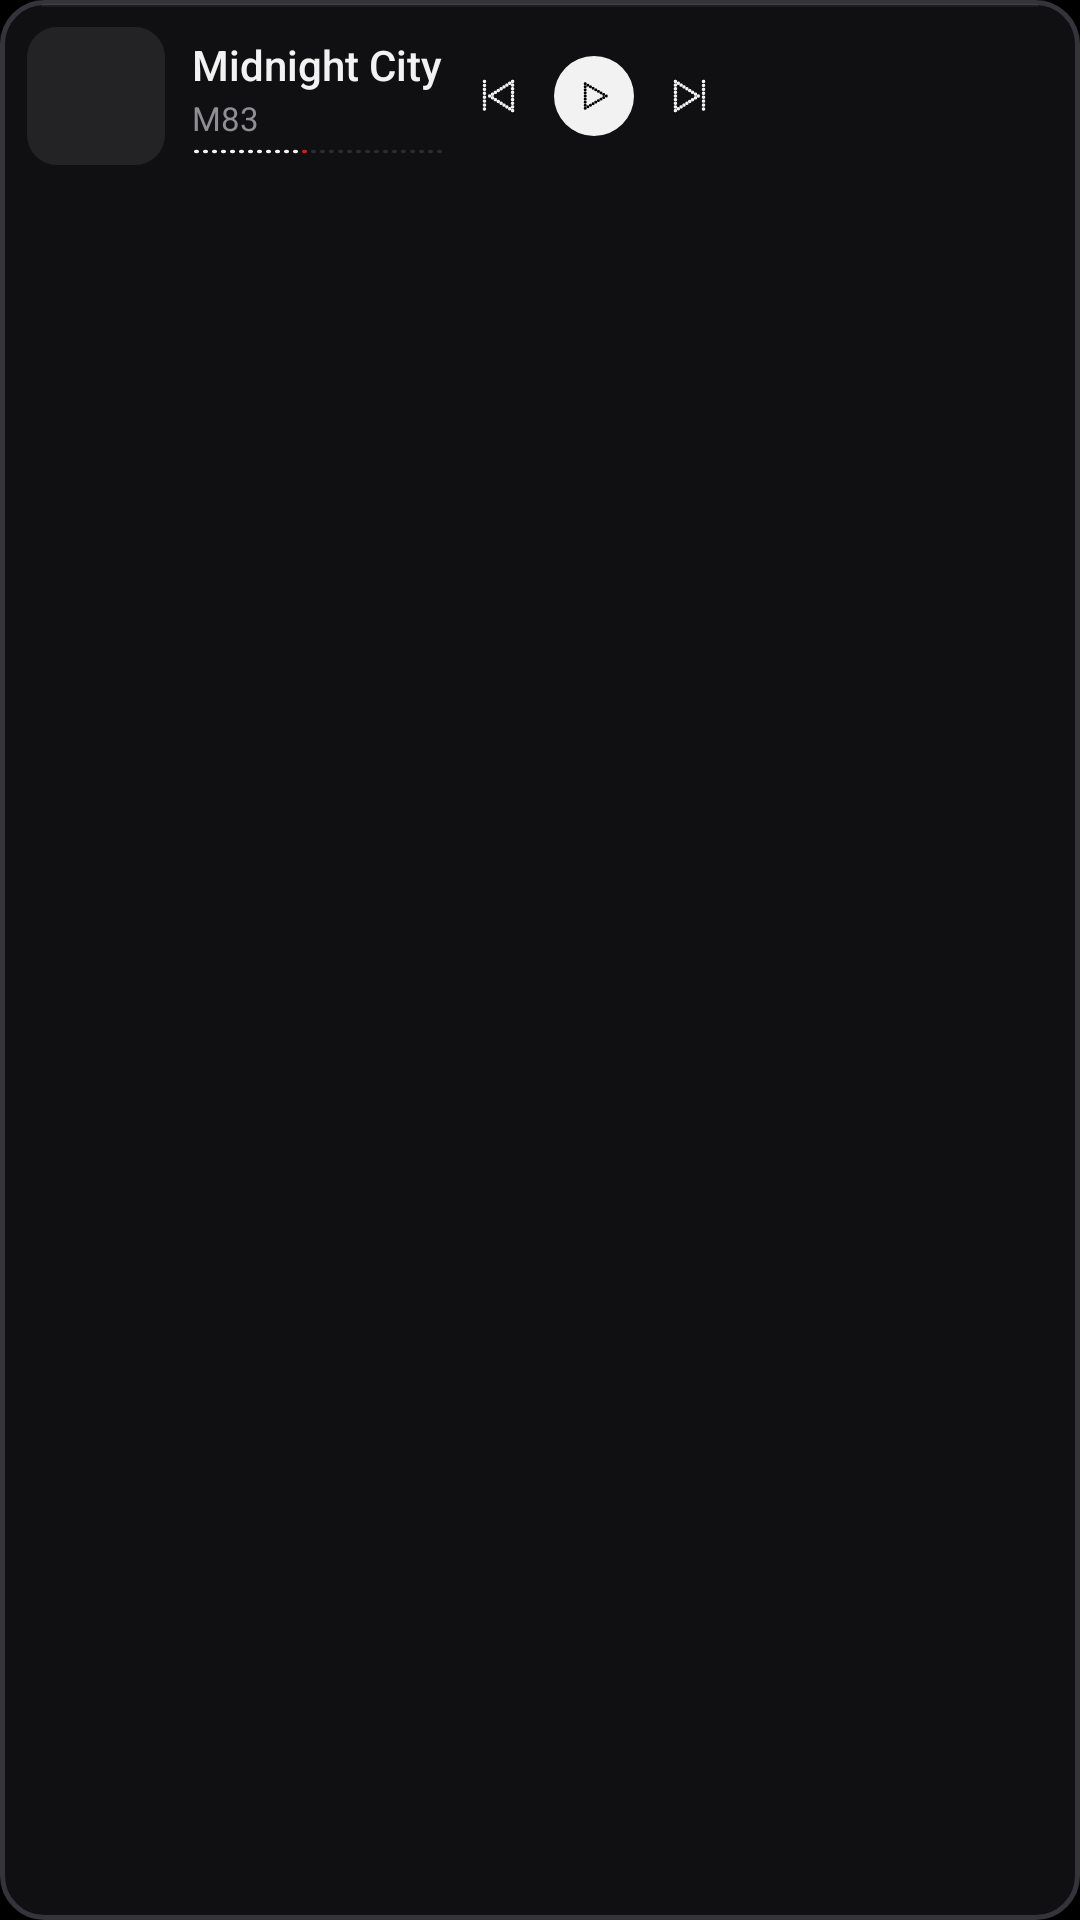

Icon click points for this 1080w x 1920h phone screenshot, format point (x, y):
controls: point (594, 96)
